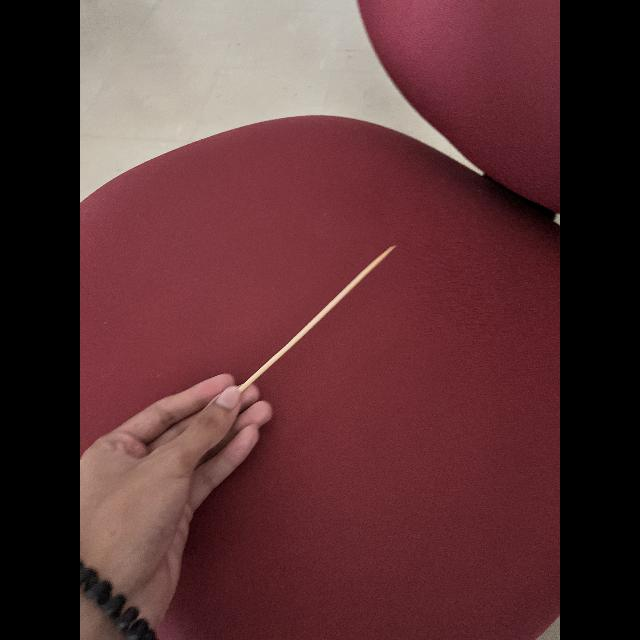stick: (234, 238, 408, 392)
